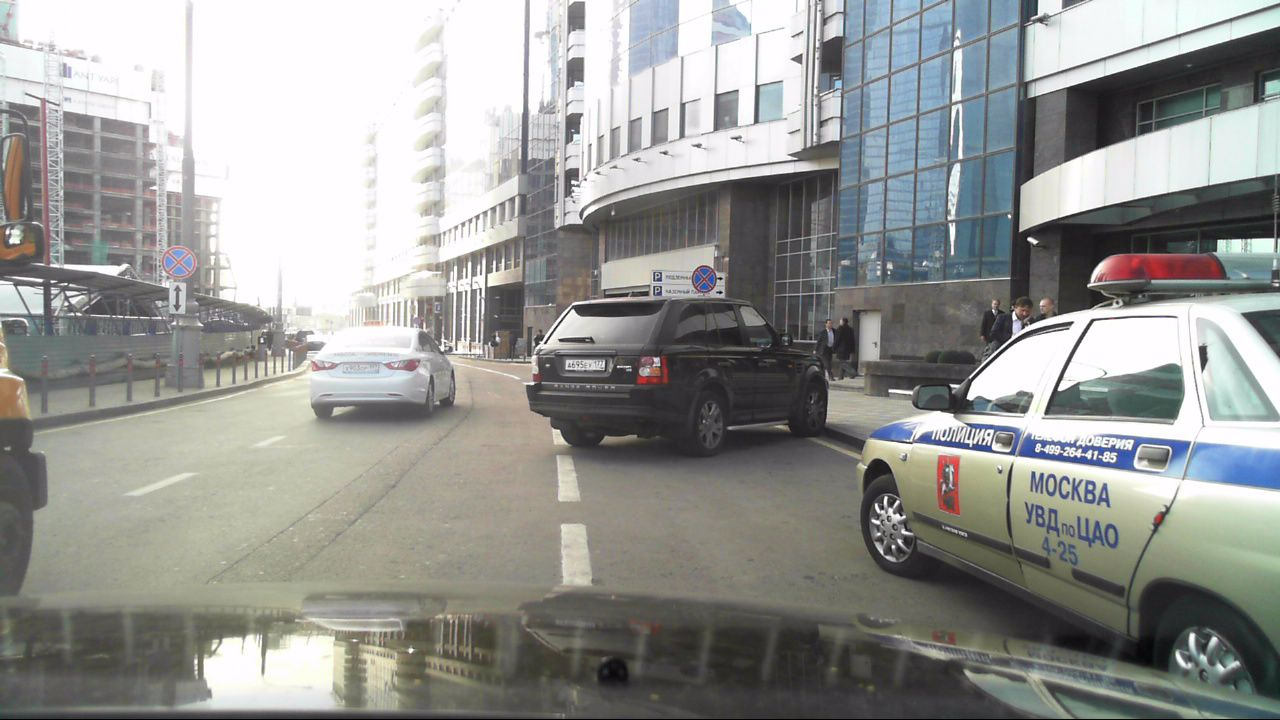No Parking: (691, 263, 718, 295)
